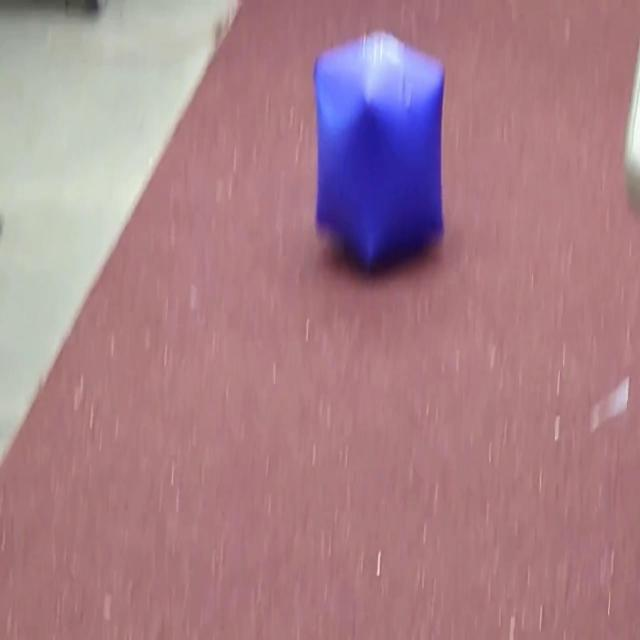frc_cube: (313, 30, 447, 276)
